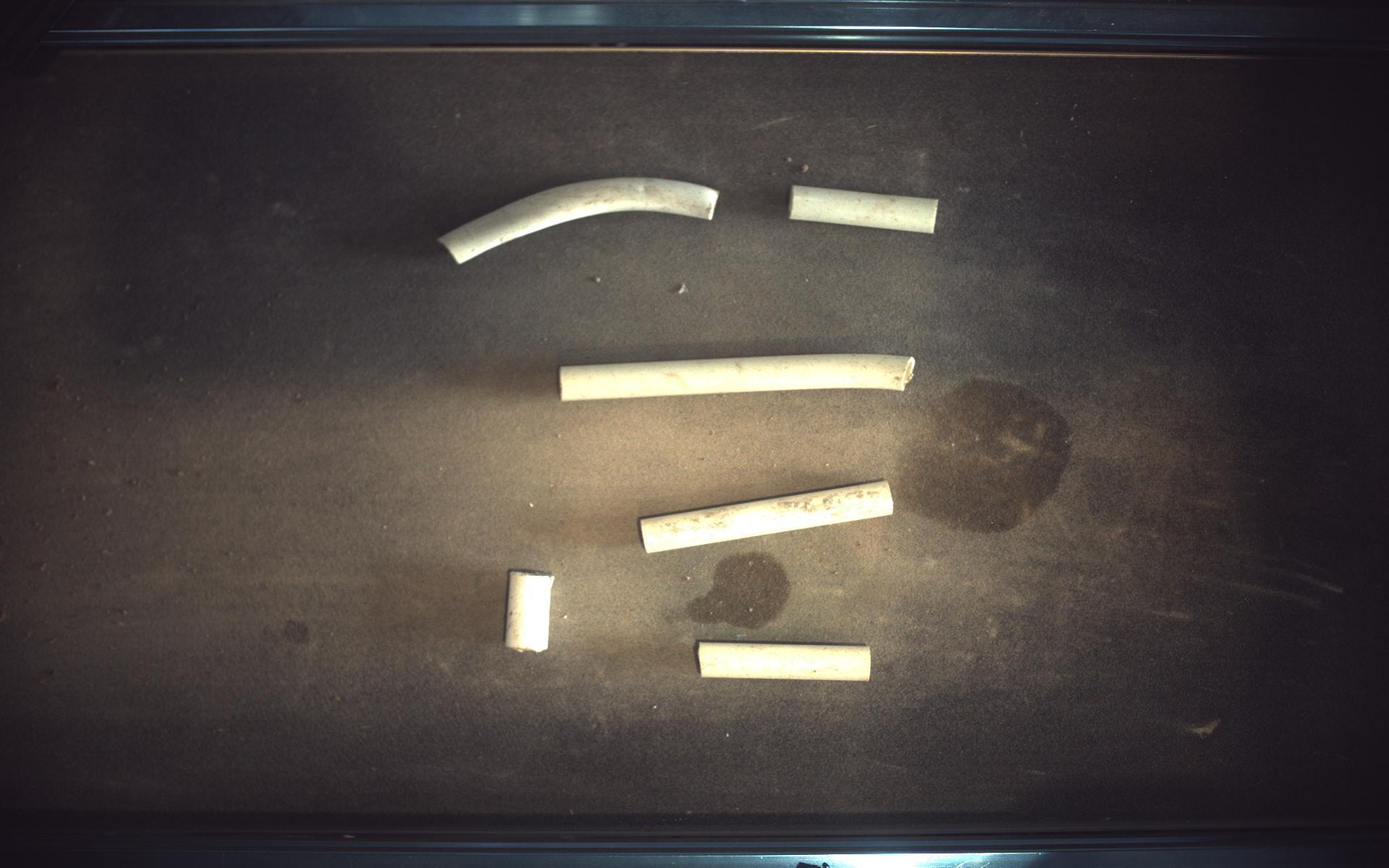pipes: (438, 176, 720, 263), (640, 481, 896, 553), (560, 354, 917, 401), (791, 184, 939, 233), (700, 644, 872, 682), (505, 570, 555, 653)
